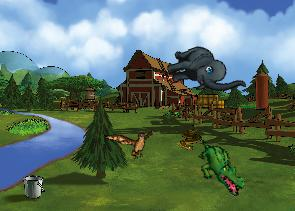crocodile: (186, 137, 255, 198)
eagle: (103, 117, 160, 167)
elephant: (162, 34, 246, 109)
